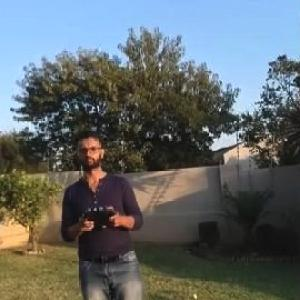follow: (56, 121, 152, 299)
